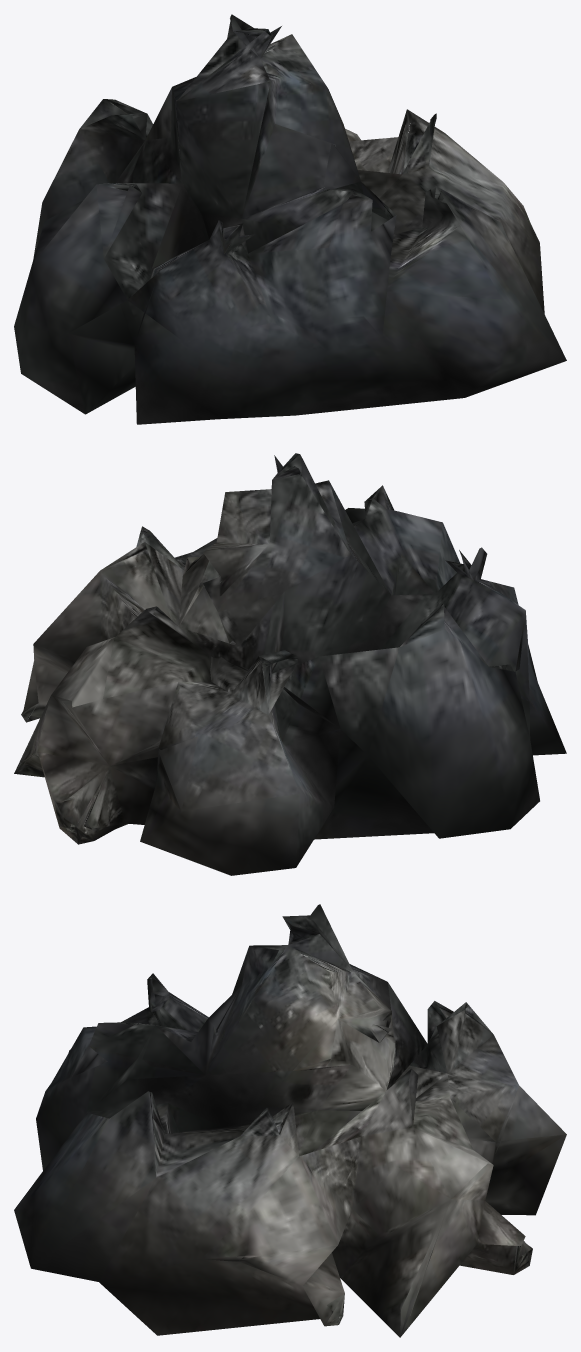
Rendered from e_trashbags.glb.
3 renders of one model, top to bottom at view 1: azimuth 30°, elevation 25°; view 2: azimuth 150°, elevation 25°; view 3: azimuth 270°, elevation 25°, orthographic. The views are drawn at different scales.
Parts seen in each view (by area): view 1: tripo_node_20b7e5dc-3b02-47a9-8cf0-6a05dcbd89d0; view 2: tripo_node_20b7e5dc-3b02-47a9-8cf0-6a05dcbd89d0; view 3: tripo_node_20b7e5dc-3b02-47a9-8cf0-6a05dcbd89d0.
Part boxes in pixels (x1,y1,x2,y2): tripo_node_20b7e5dc-3b02-47a9-8cf0-6a05dcbd89d0: (14, 14, 566, 424); tripo_node_20b7e5dc-3b02-47a9-8cf0-6a05dcbd89d0: (14, 453, 566, 875); tripo_node_20b7e5dc-3b02-47a9-8cf0-6a05dcbd89d0: (14, 904, 566, 1337).
Size of the model in its own units: 0.9706 by 0.6483 by 1.
1 material, 1 textured.
